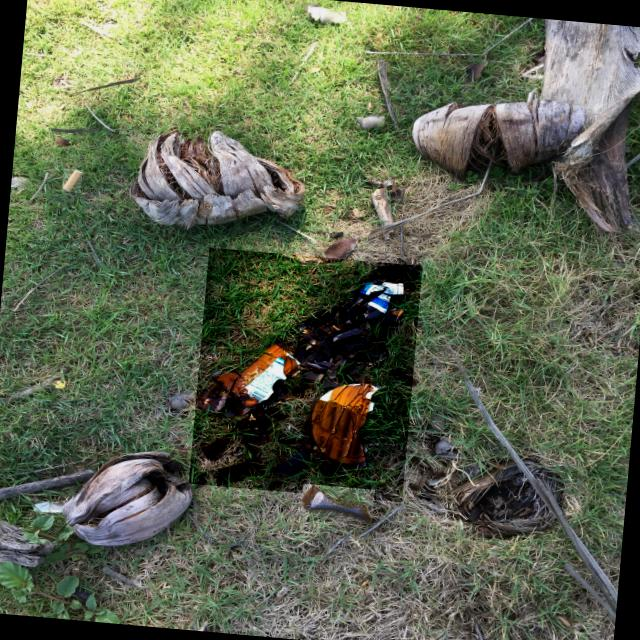Broken glass: (196, 266, 421, 486), (301, 484, 372, 522), (202, 428, 234, 460)
Cigarette: (62, 170, 82, 192)
